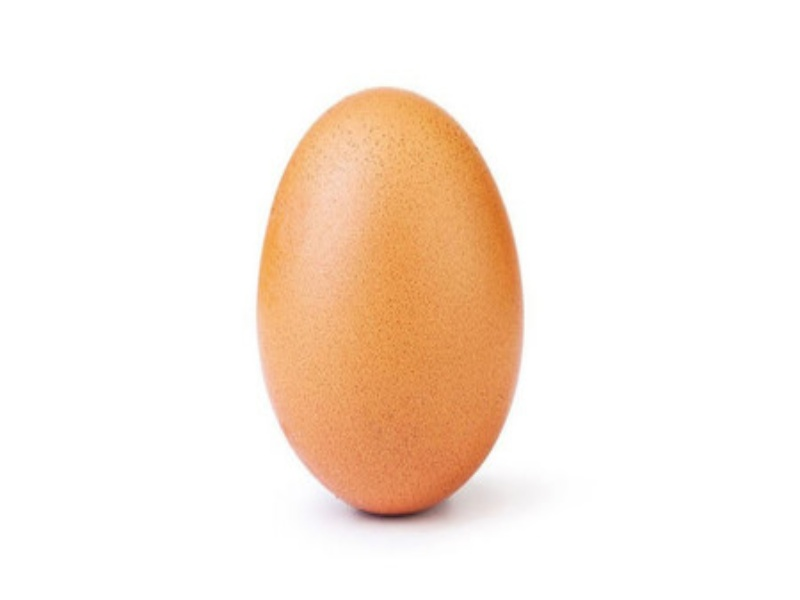Huevo: (257, 87, 525, 518)
